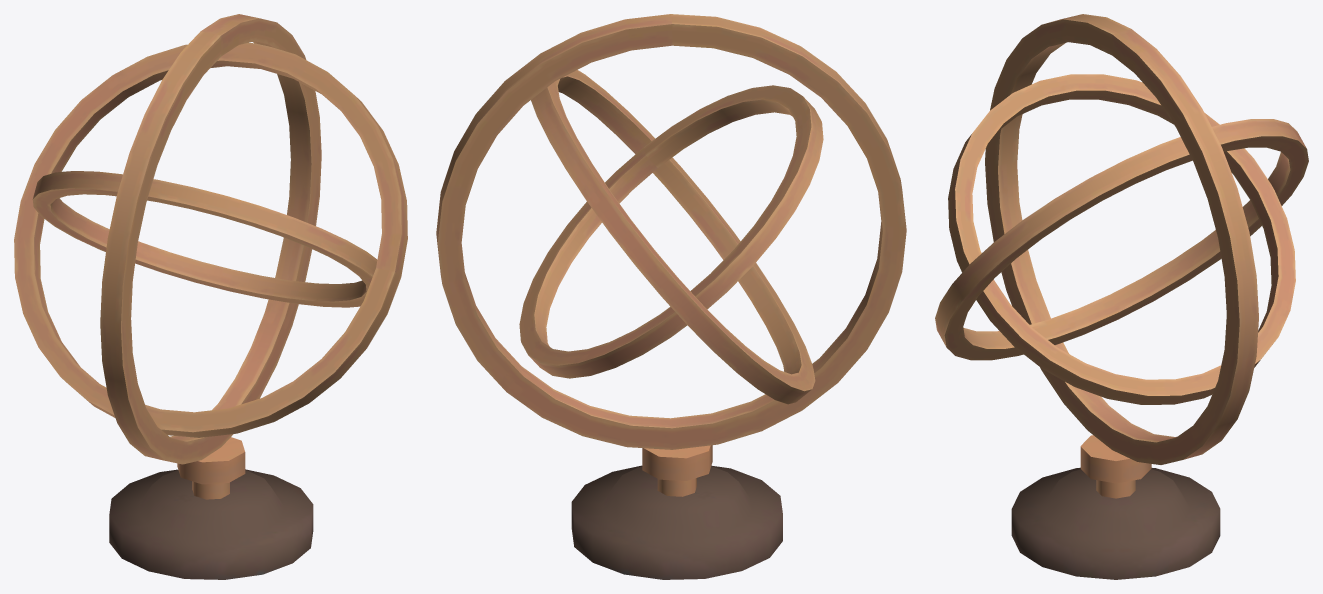
Rendered from Homeworld_Interior_Md_Decoration_Prop_Rings_01_Vo.fbx.
3 views of the same model, side by side, from view 1: azimuth 30°, elevation 25°; view 2: azimuth 150°, elevation 25°; view 3: azimuth 270°, elevation 25° (orthographic). The views are drawn at different scales.
Visible parts, largest first — view 1: Indoor_MdProps_Knightoffice_Item02_Vo; view 2: Indoor_MdProps_Knightoffice_Item02_Vo; view 3: Indoor_MdProps_Knightoffice_Item02_Vo.
Part boxes in pixels (bbox=[...]): Indoor_MdProps_Knightoffice_Item02_Vo: bbox=[14, 14, 407, 579]; Indoor_MdProps_Knightoffice_Item02_Vo: bbox=[436, 14, 906, 579]; Indoor_MdProps_Knightoffice_Item02_Vo: bbox=[935, 14, 1308, 579].
Size of the model in its own units: 0.4147 by 0.5866 by 0.3932.
